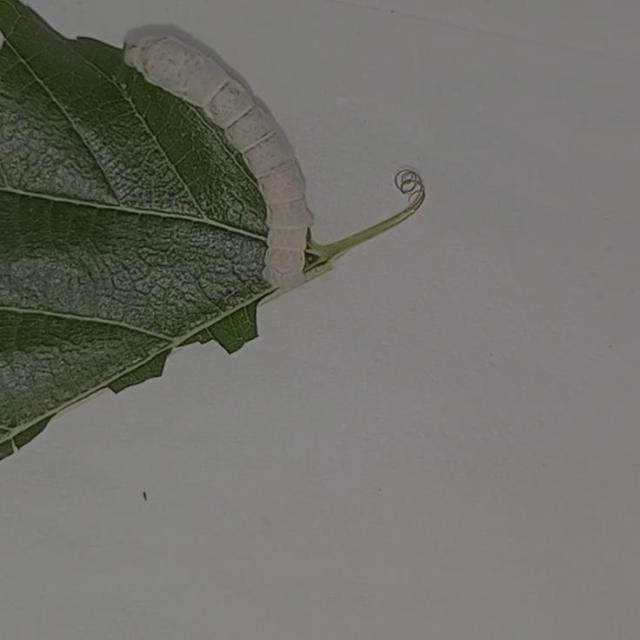Healthy: (108, 9, 373, 303)
